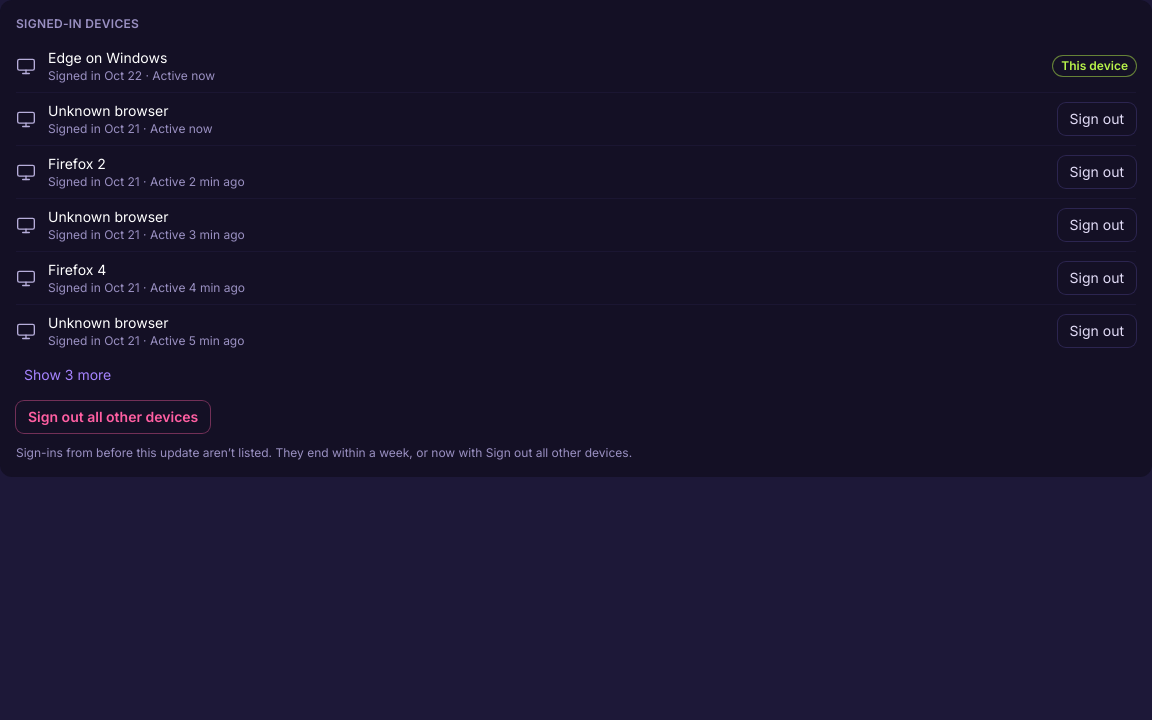
Test: P10-02: this device first, then five others until "Show n more"; no browser name reads "Unknown browser"
Expected: the number of list items is 6, x1=16 y1=40 x2=1136 y2=93; x1=16 y1=93 x2=1136 y2=146; x1=16 y1=146 x2=1136 y2=199; x1=16 y1=199 x2=1136 y2=252; x1=16 y1=252 x2=1136 y2=305; x1=16 y1=305 x2=1136 y2=357
Expected: the list item "Edge on Windows Signed in Oct 22 · Active now This device" is shown, x1=16 y1=40 x2=1136 y2=93
What coordinates should you click on to do the following:
click the button "Show 3 more"
I would click on:
 (68, 375)
Its box is x1=16 y1=361 x2=119 y2=389.
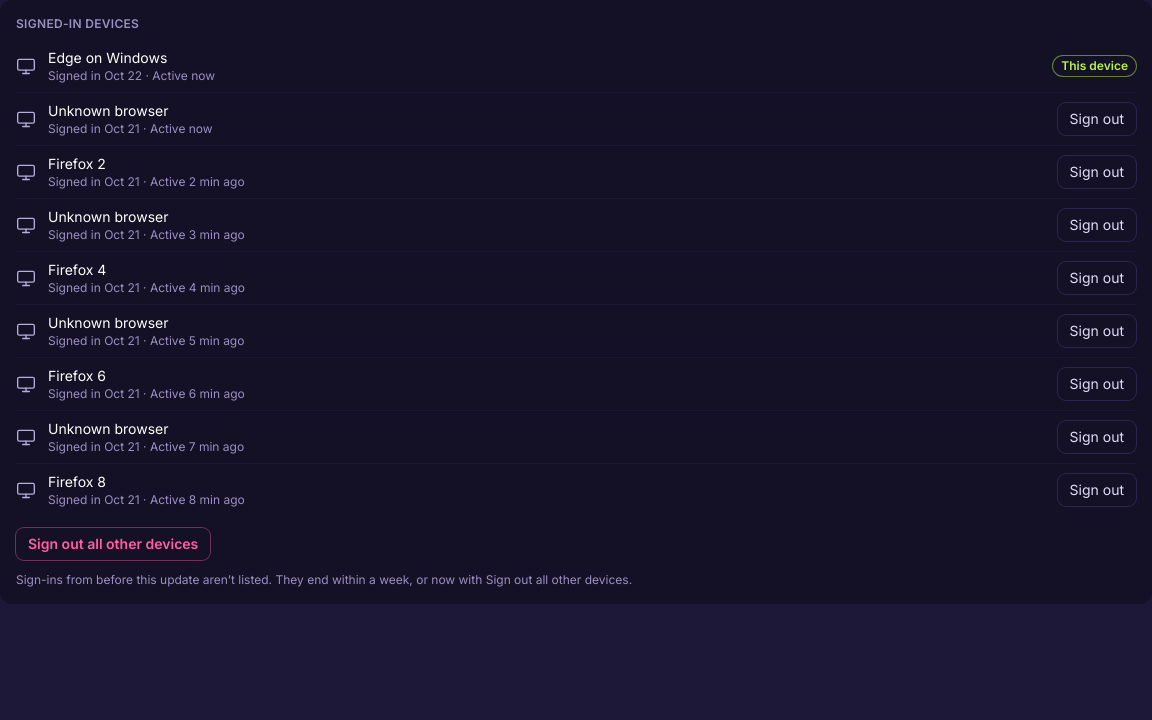
Expected: the number of list items is 9
Expected: the button "Show 3 more" is gone
